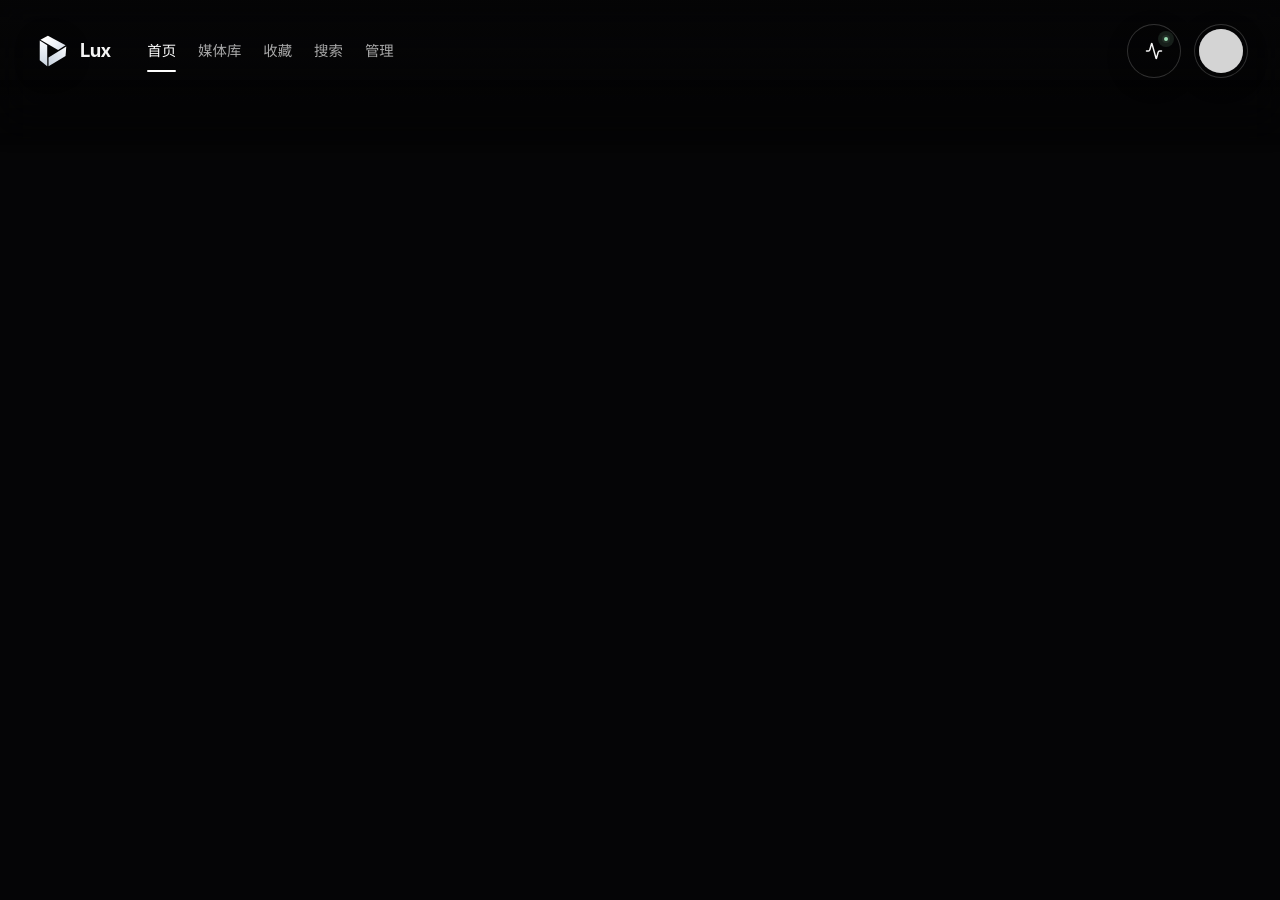
LuxShell user control › shows active scan progress for admins without leaking paths or query strings
Click the button with class "lux-scan-activity-trigger" at (1154, 51), box [1127,24,1181,78]
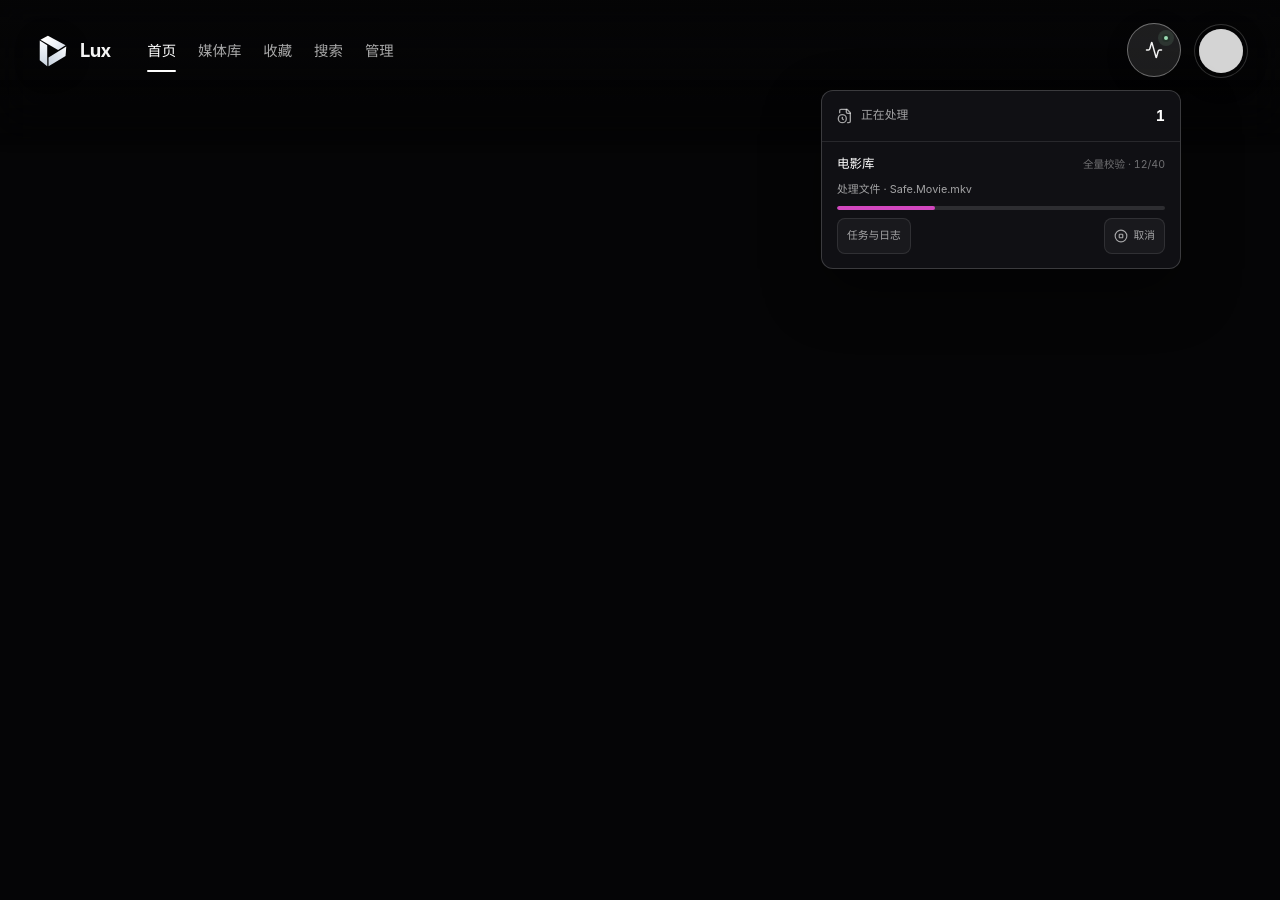
Now the text "电影库" is shown, box [837,155,874,173]
Now the text "全量校验" is shown, box [1083,158,1125,171]
Now the text "12/40" is shown, box [1134,158,1165,171]
